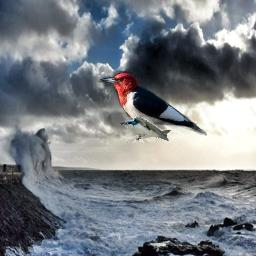Swallow: (125, 117, 172, 143)
Woodpecker: (97, 71, 207, 137)
